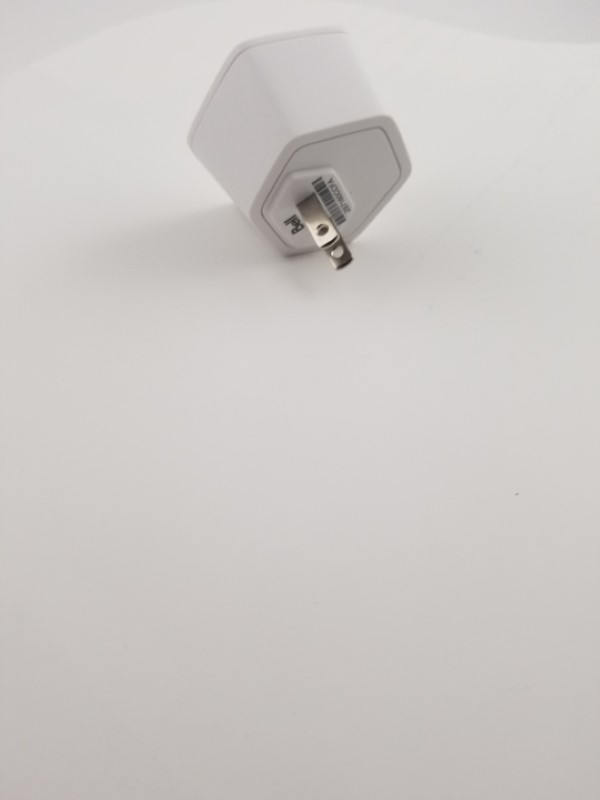pod: (184, 23, 430, 279)
